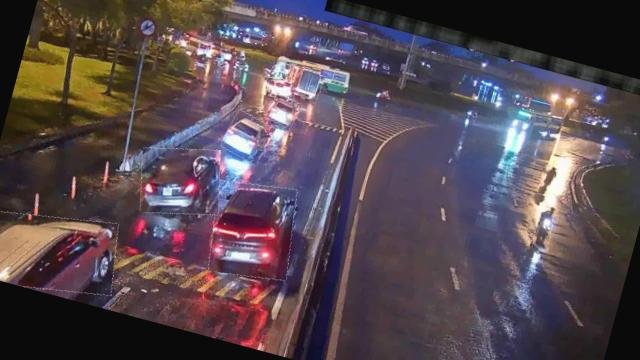Bike: (530, 211, 556, 252), (538, 165, 558, 197)
Car: (0, 194, 125, 308), (198, 173, 304, 287), (129, 135, 229, 226), (219, 110, 274, 165), (265, 92, 301, 128), (262, 74, 296, 102)
Truck: (281, 63, 324, 101)
